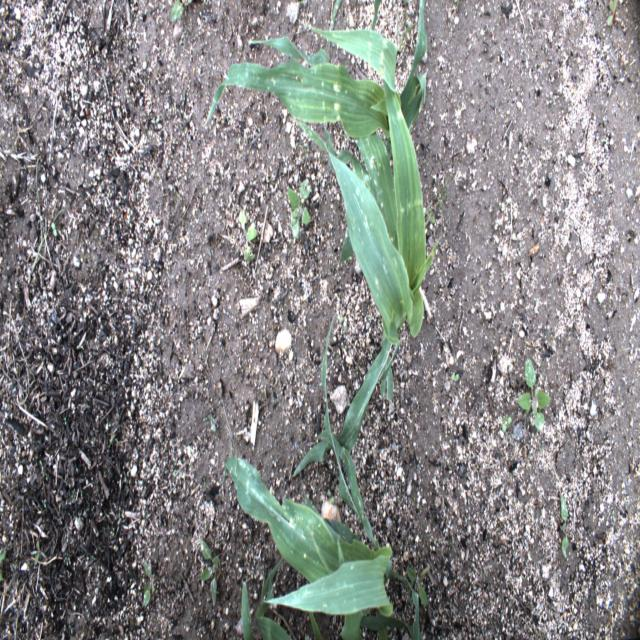crop: (225, 323, 421, 638), (292, 76, 438, 478), (205, 0, 430, 138), (242, 582, 253, 639), (330, 1, 342, 22), (371, 2, 382, 23)
weed: (513, 352, 554, 432), (197, 535, 222, 610), (288, 179, 315, 240), (236, 202, 258, 265), (406, 565, 431, 610), (140, 555, 157, 612), (559, 496, 571, 558), (30, 538, 50, 568), (605, 1, 621, 30), (166, 1, 187, 19), (203, 411, 219, 433), (448, 366, 463, 388), (0, 545, 8, 584), (500, 412, 511, 431), (51, 216, 58, 241)
